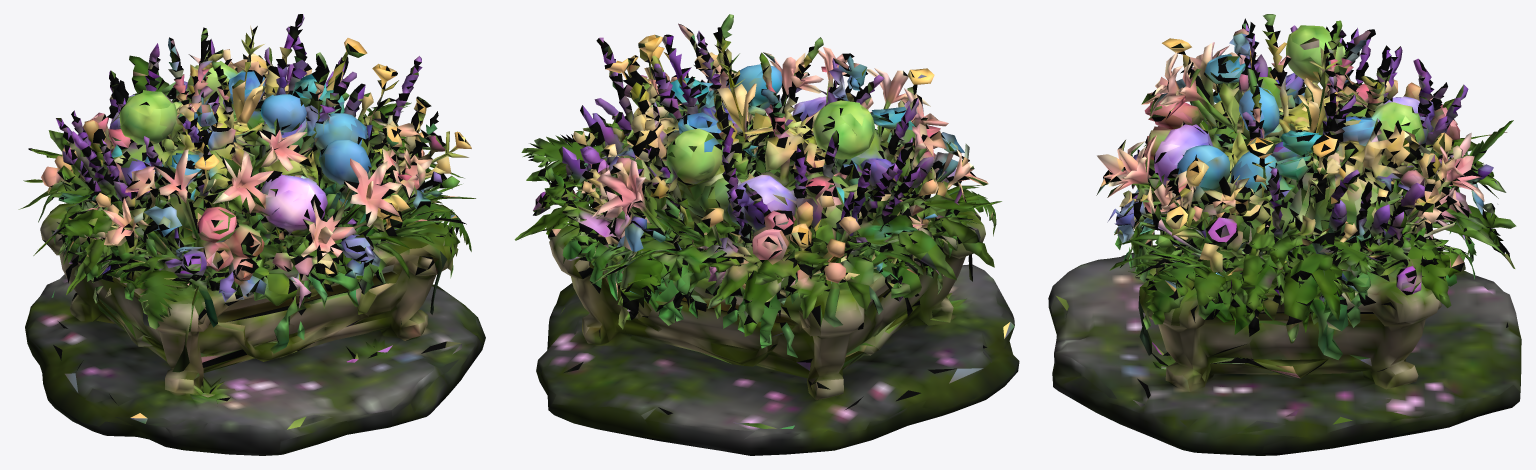
Rendered from Whimsical_Floral_Casc.fbx.
3 views of the same model, side by side, from view 1: azimuth 30°, elevation 25°; view 2: azimuth 150°, elevation 25°; view 3: azimuth 270°, elevation 25° (orthographic). The views are drawn at different scales.
Visible parts, largest first — view 1: Whimsical_Floral_Casc_LOD0; view 2: Whimsical_Floral_Casc_LOD0; view 3: Whimsical_Floral_Casc_LOD0.
Boxes of the visible parts, <box> form: Whimsical_Floral_Casc_LOD0: <box>18,14,485,455</box>; Whimsical_Floral_Casc_LOD0: <box>514,14,1019,455</box>; Whimsical_Floral_Casc_LOD0: <box>1048,14,1521,455</box>.
Size of what is drawn, in the model's own units: 1.87 by 1.35 by 1.77.
1 material, 1 textured.
